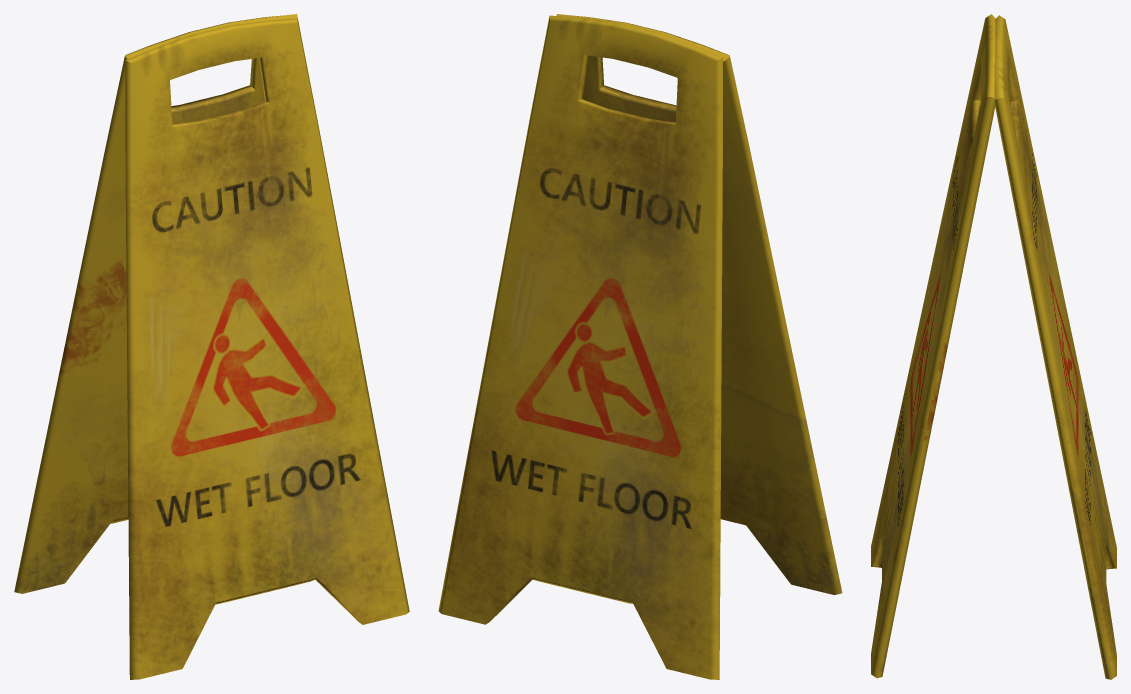
Rendered from CautionWetFloor_Scaled.fbx.
The picture shows the model from 3 angles, left to right: view 1: azimuth 30°, elevation 25°; view 2: azimuth 150°, elevation 25°; view 3: azimuth 270°, elevation 25°; orthographic projection.
Visible parts, largest first — view 1: WetFloorSign1, WetFloorSign2; view 2: WetFloorSign2, WetFloorSign1; view 3: WetFloorSign1, WetFloorSign2.
Boxes of the visible parts, x1,y1,x2,y2 form: WetFloorSign1: (125, 18, 409, 679); WetFloorSign2: (14, 14, 297, 593); WetFloorSign2: (438, 15, 722, 679); WetFloorSign1: (556, 14, 842, 594); WetFloorSign1: (871, 14, 995, 678); WetFloorSign2: (994, 15, 1116, 679).
Bounding box in the file's own units: 38.73 × 74.99 × 29.56.
